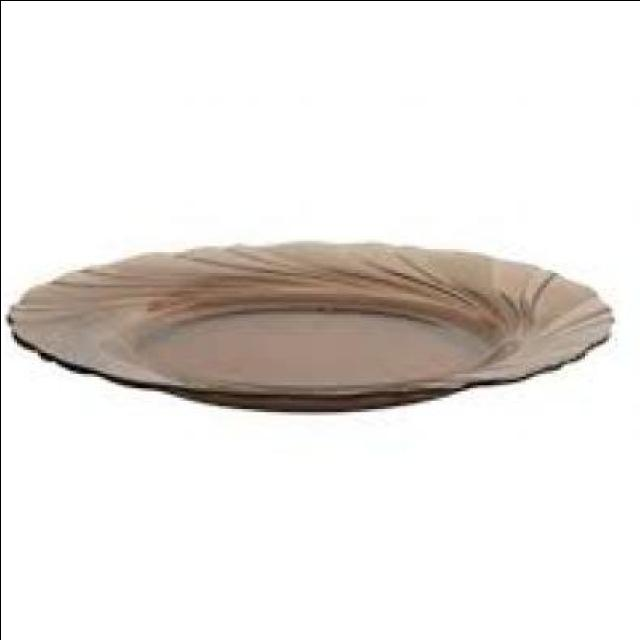kaca: (10, 240, 612, 418)
